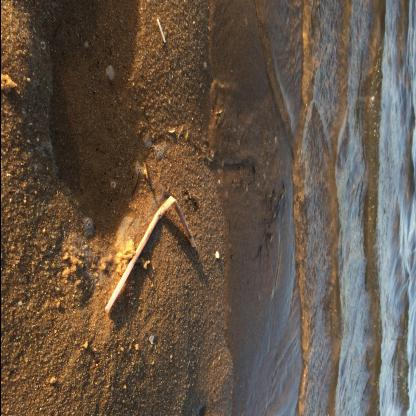plastik: (103, 194, 196, 314)
